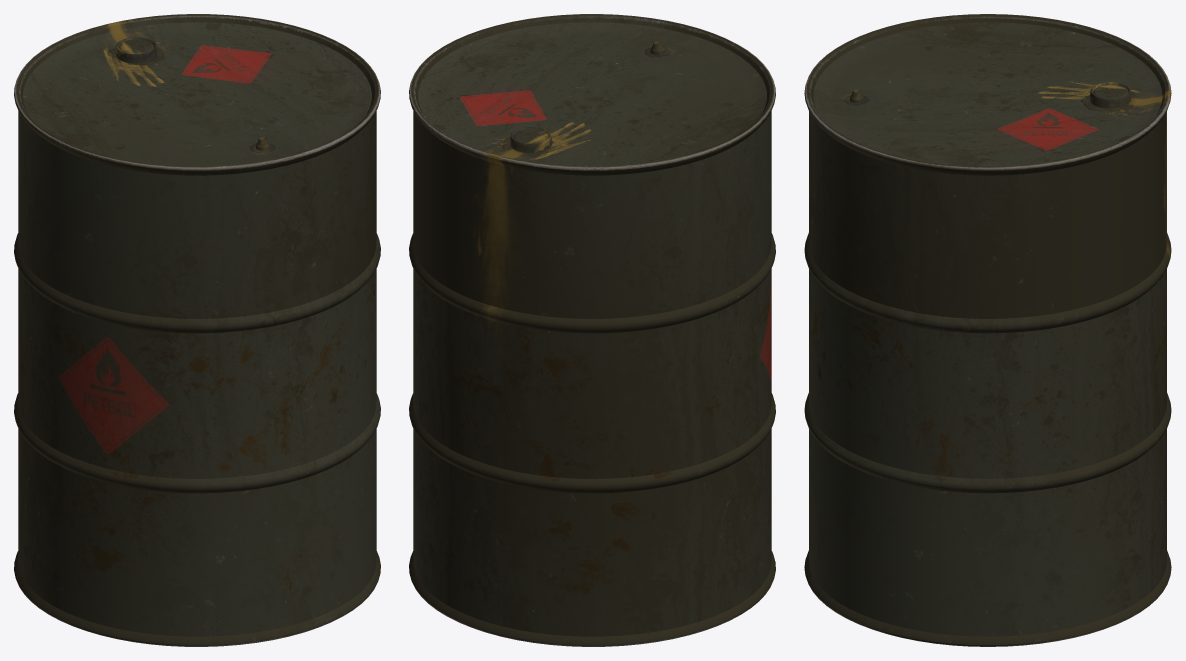
Rendered from barrel.glb.
3 renders of one model, left to right at view 1: azimuth 30°, elevation 25°; view 2: azimuth 150°, elevation 25°; view 3: azimuth 270°, elevation 25°, orthographic.
Visible parts, largest first — view 1: _barrel1, _barrel5; view 2: _barrel1, _barrel5; view 3: _barrel1, _barrel5.
Part boxes in pixels (<box>): _barrel1: <box>14,14,380,646</box>; _barrel5: <box>116,37,156,63</box>; _barrel1: <box>409,14,775,646</box>; _barrel5: <box>510,127,551,153</box>; _barrel1: <box>804,14,1171,646</box>; _barrel5: <box>1090,82,1130,108</box>.
Size of the model in its own units: 0.617 by 0.8903 by 0.617.
Materials: 1 (1 with a texture image).
